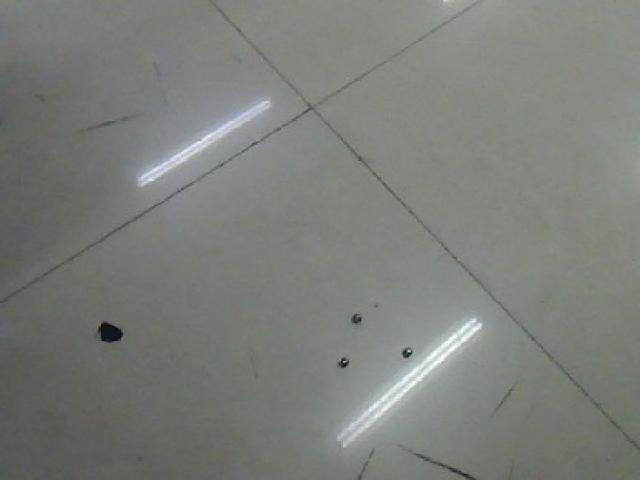steel-ball: (343, 297, 368, 332), (392, 336, 417, 362), (331, 342, 349, 376)
